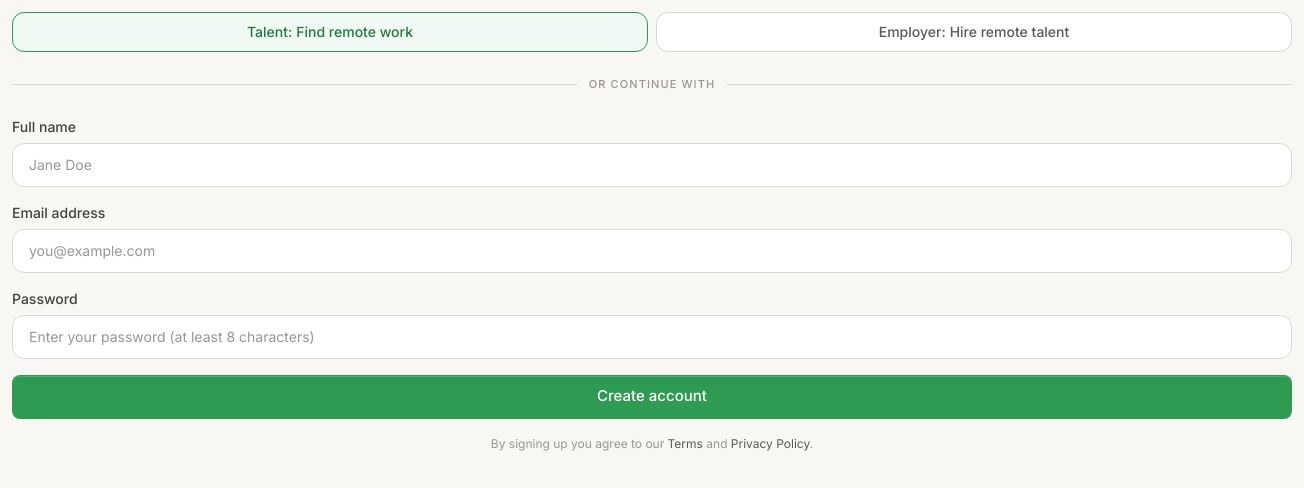
Test: RegisterForm Name Validation › displays English validation warning immediately when typing 1 character in English locale
The image size is (1304, 488).
Type "X" into the field labelled "Full name" at (652, 164), box [12, 142, 1292, 186]
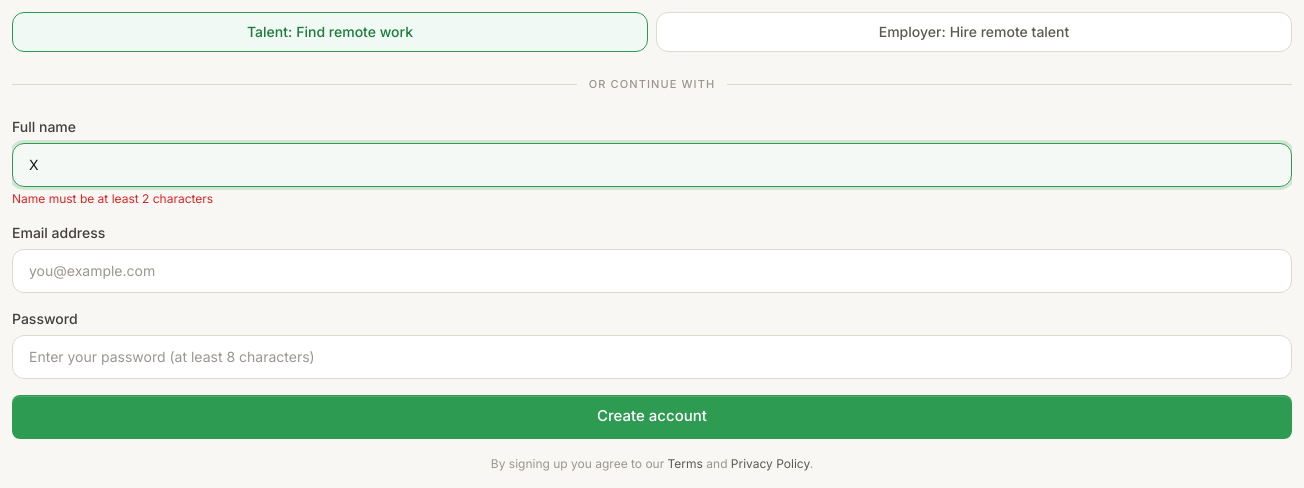
Expected: the text "Name must be at least 2 characters" is shown, [12, 190, 213, 206]
